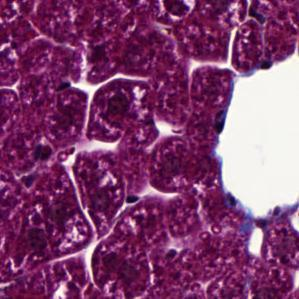inflammation: (84, 73, 159, 148)
